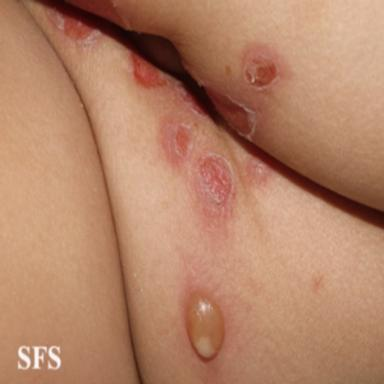Impetigo: (185, 289, 228, 364), (43, 4, 103, 55), (205, 86, 260, 140), (195, 150, 236, 213), (242, 47, 280, 92), (129, 50, 170, 90), (163, 115, 195, 164), (247, 155, 271, 185)
